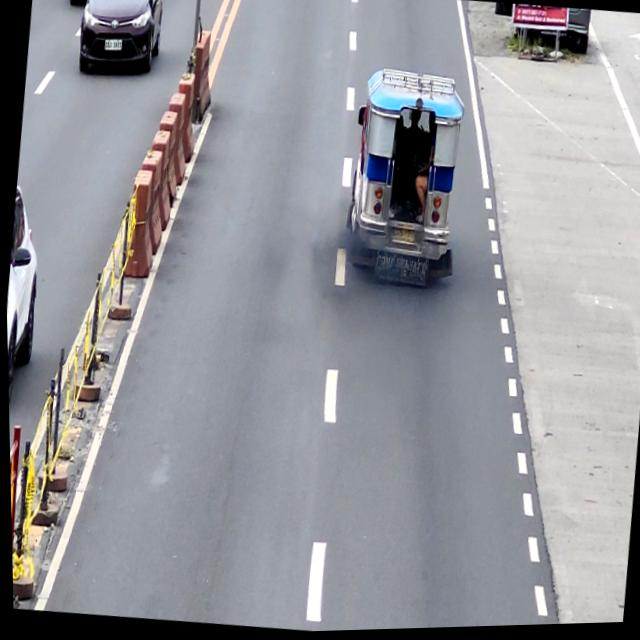Jeep: (338, 65, 471, 294)
License-Plate: (388, 228, 413, 246)
